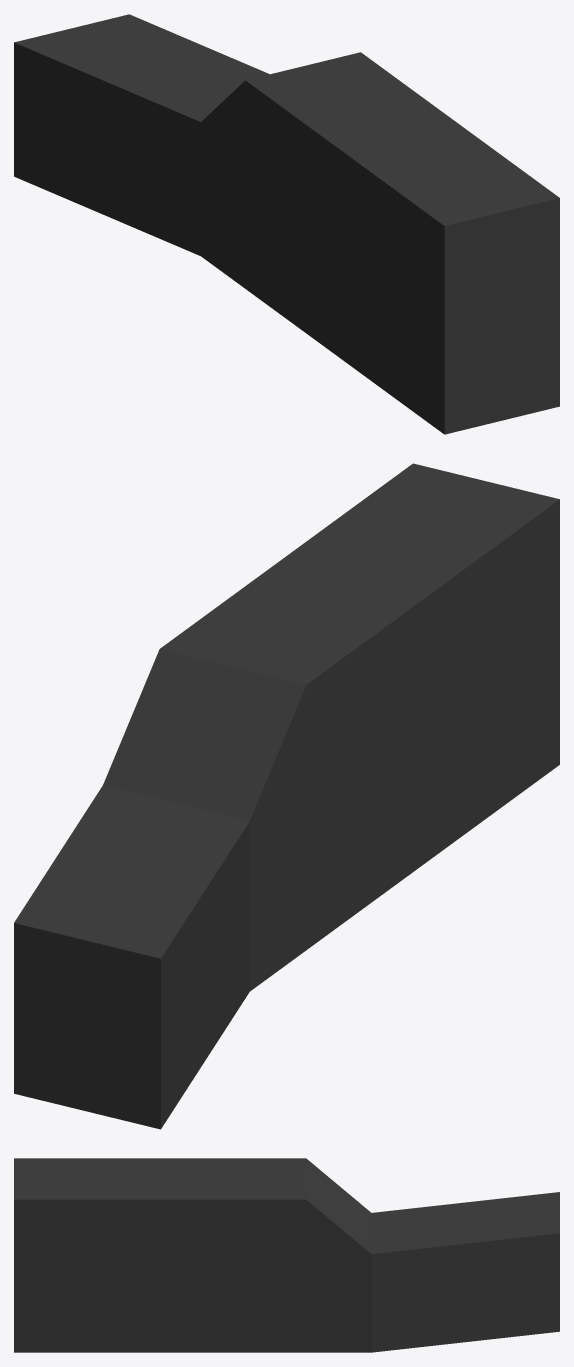
File: AssaultRifle1_05_4.fbx
The picture shows the model from 3 angles, top to bottom: view 1: azimuth 30°, elevation 25°; view 2: azimuth 150°, elevation 25°; view 3: azimuth 270°, elevation 25°; orthographic projection. The views are drawn at different scales.
Visible parts, largest first — view 1: AssaultRifle1_05_4; view 2: AssaultRifle1_05_4; view 3: AssaultRifle1_05_4.
Boxes of the visible parts, x1,y1,x2,y2 form: AssaultRifle1_05_4: [14, 14, 559, 434]; AssaultRifle1_05_4: [14, 463, 559, 1129]; AssaultRifle1_05_4: [14, 1158, 559, 1352].
Size of the model in its own units: 0.00813 by 0.00932 by 0.0301.
